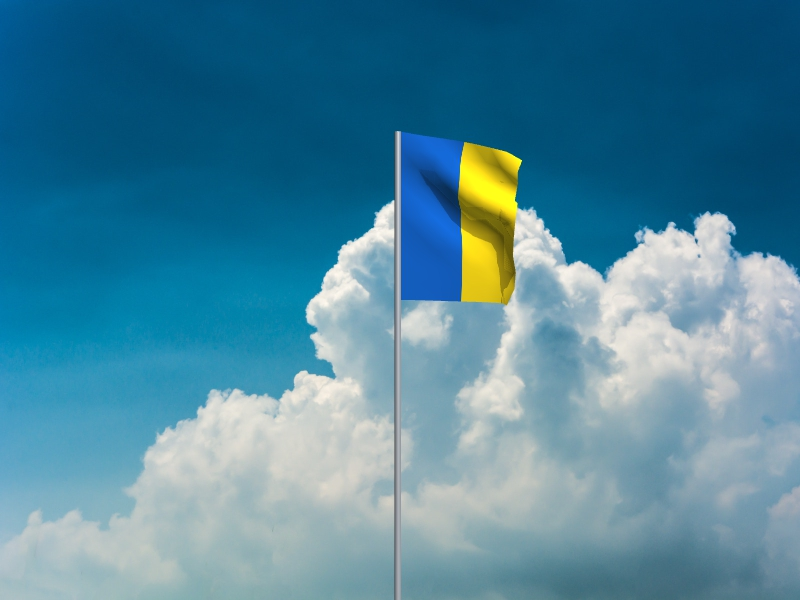ua: (401, 133, 523, 306)
